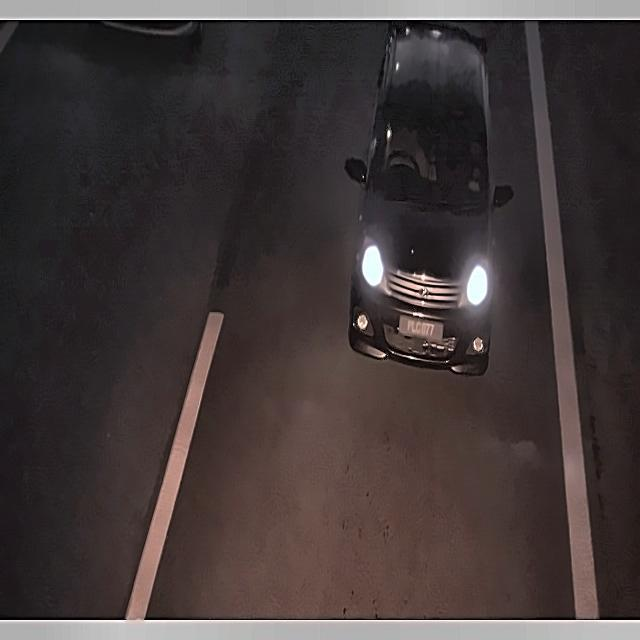car: (394, 308, 448, 348)
